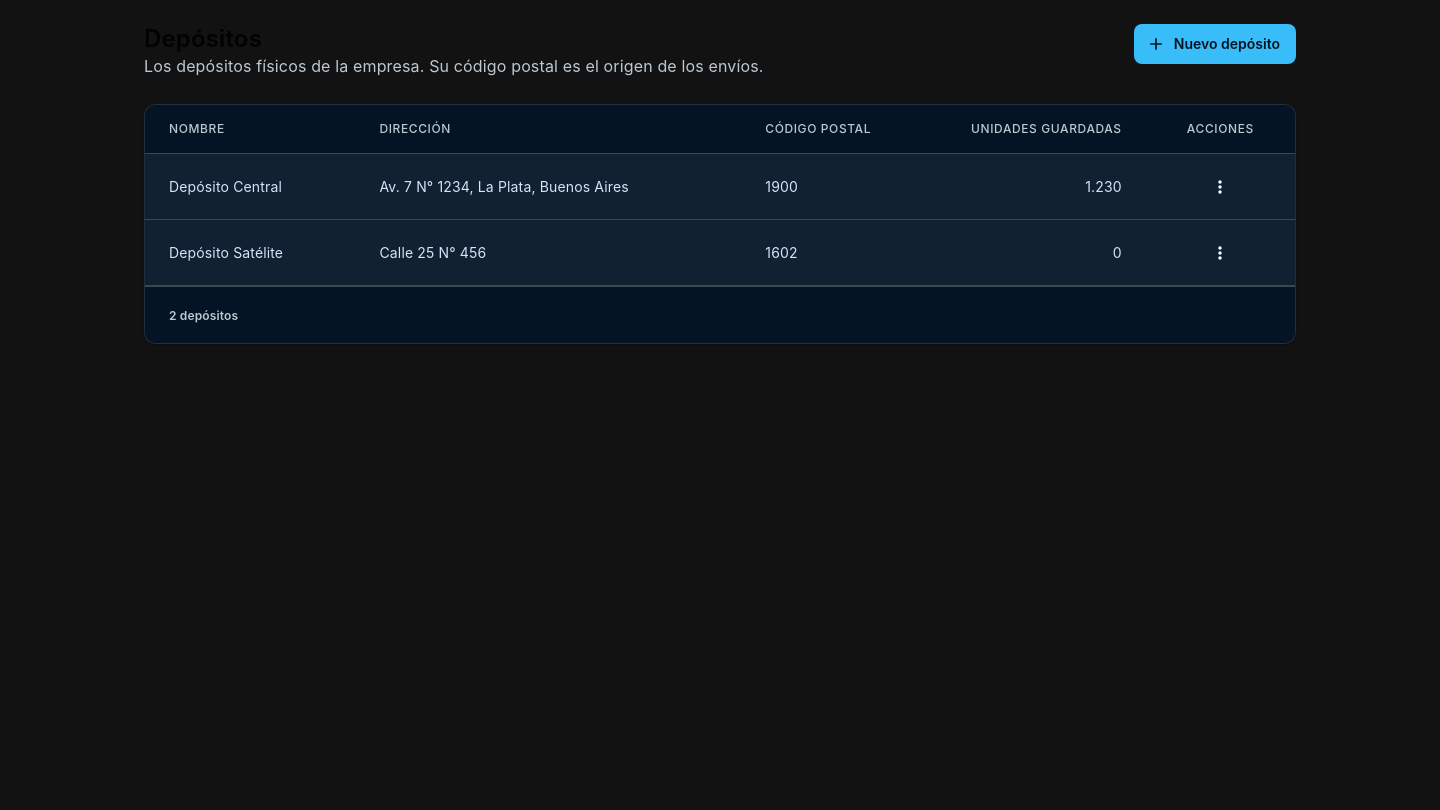
Test: WarehousesPage › opens the edition of a row with its data
The image size is (1440, 810).
What coordinates should you click on to do the following:
click the button named "Acciones del depósito Depósito Satélite"
I would click on:
 (1220, 253)
Its box is [1205, 238, 1235, 268].
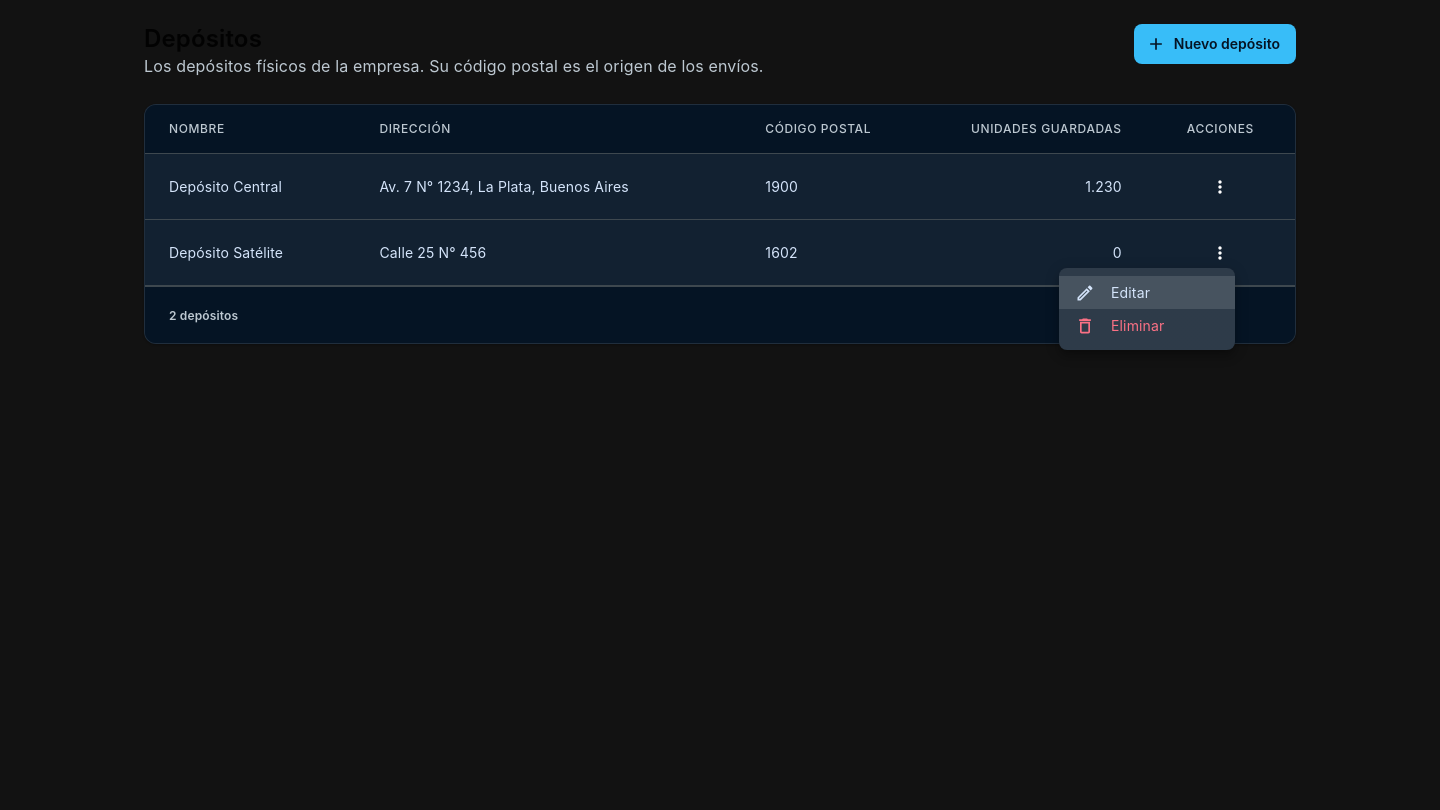
What coordinates should you click on to do the following:
click the menu item "Editar"
I would click on:
 (1147, 292)
Its box is [1059, 276, 1235, 309].
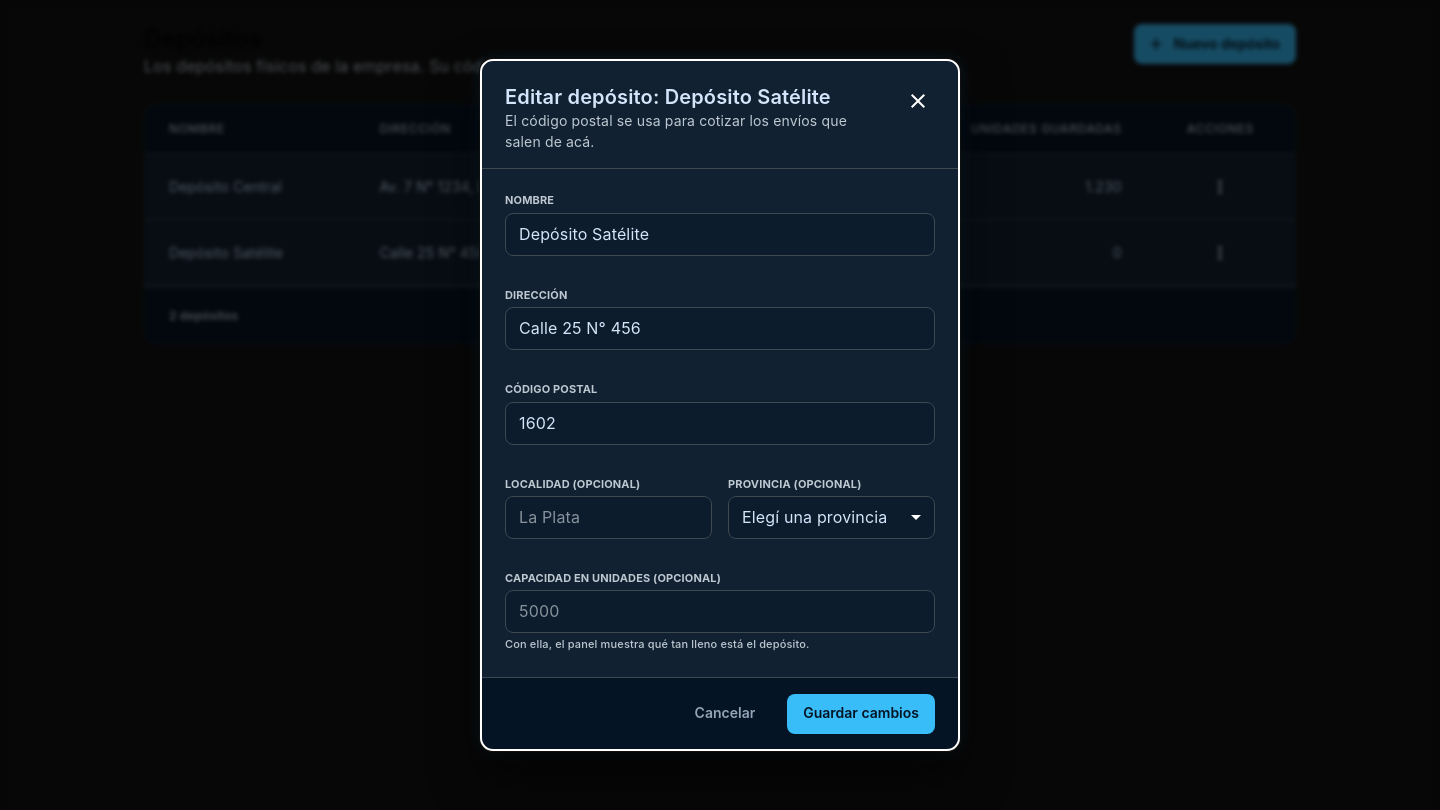
Result: the heading "Editar depósito: Depósito Satélite" is shown at [505, 84, 885, 110]
